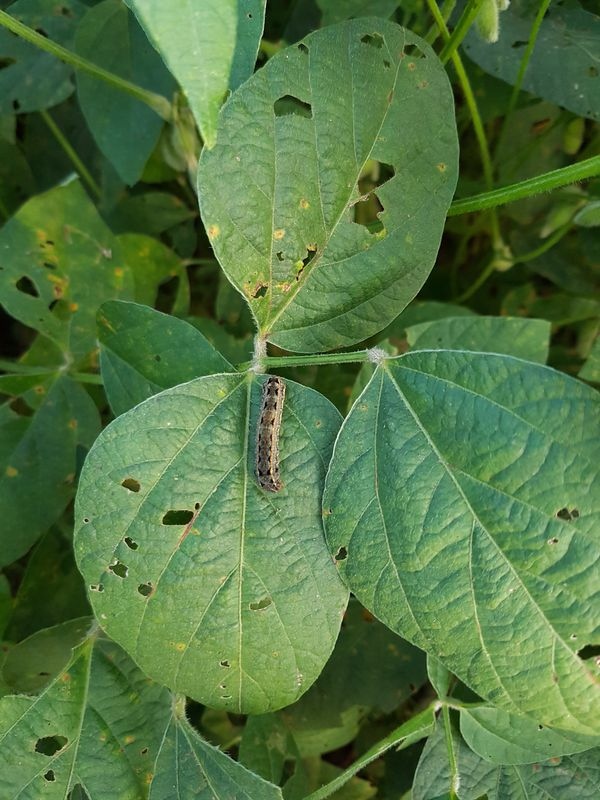Spodoptera_albula: (225, 366, 313, 503)
